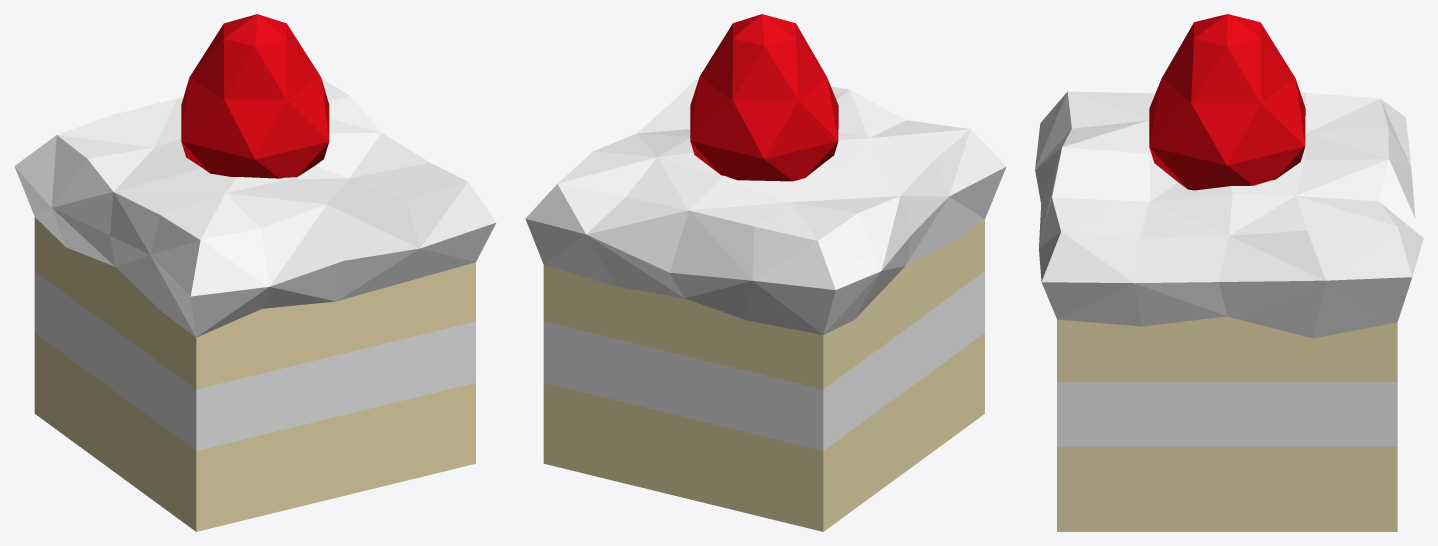
The model's file is cake_cream.fbx.
The picture shows the model from 3 angles, left to right: view 1: azimuth 30°, elevation 25°; view 2: azimuth 150°, elevation 25°; view 3: azimuth 270°, elevation 25°; orthographic projection. The views are drawn at different scales.
Parts seen in each view (by area): view 1: cake_cream; view 2: cake_cream; view 3: cake_cream.
Part boxes in pixels (x1,y1,x2,y2): cake_cream: (14, 14, 496, 531); cake_cream: (525, 14, 1006, 531); cake_cream: (1035, 14, 1423, 531).
Bounding box in the file's own units: 6.45 × 8.31 × 6.55.
